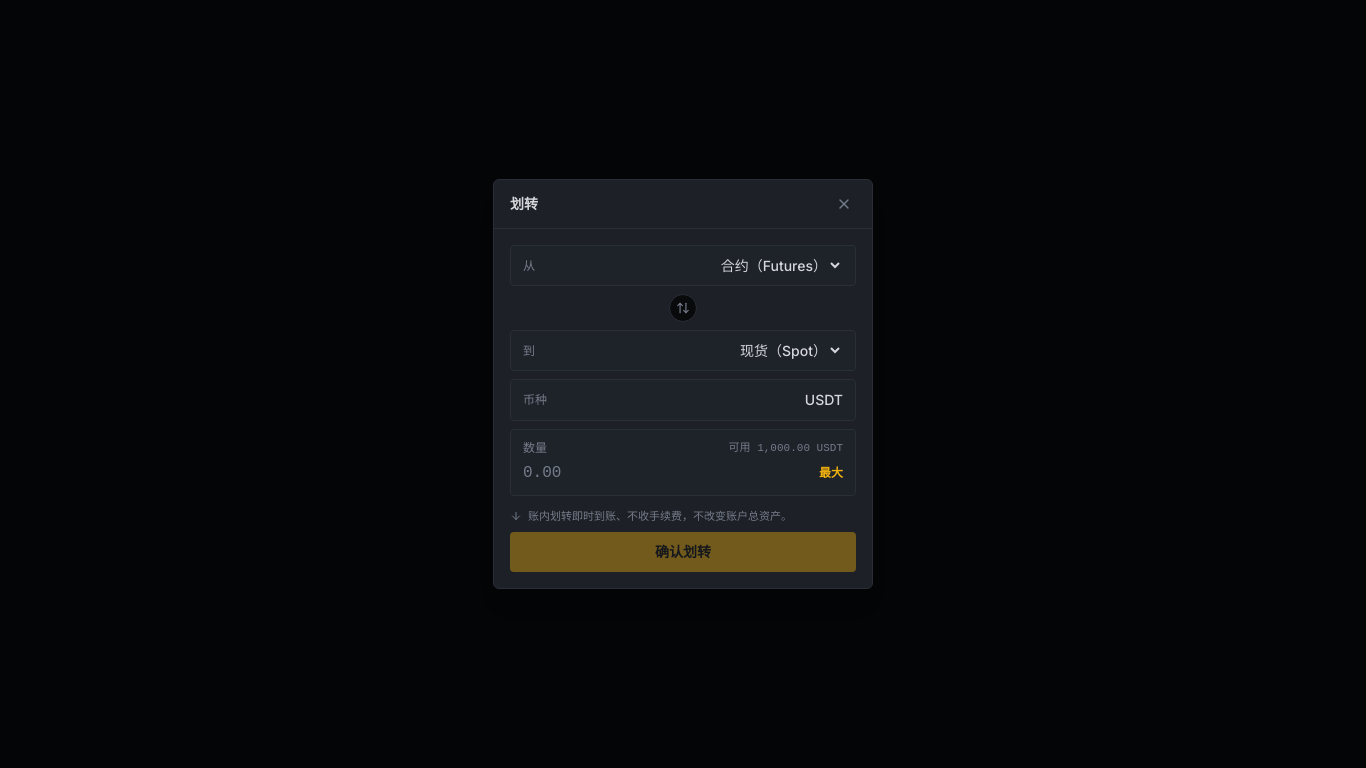
it: TransferDialog › 交换方向后可用额随之切换
Click the button with test id "transfer-swap". click: (683,308)
box: left=669, top=294, right=697, bottom=322
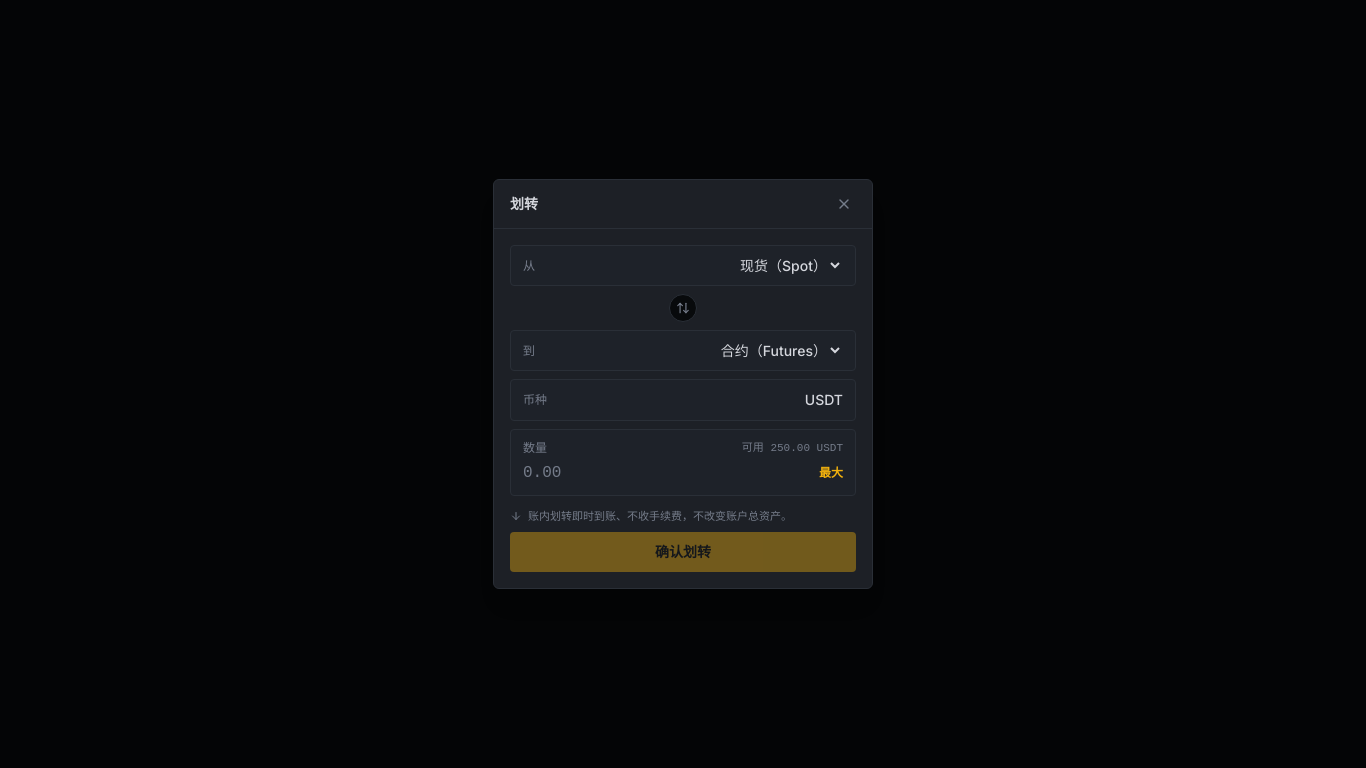
Expected: the dropdown with test id "transfer-from" shows "现货（Spot）", left=547, top=256, right=843, bottom=275
Expected: the dropdown with test id "transfer-to" shows "合约（Futures）", left=547, top=341, right=843, bottom=360
Expected: the text with test id "transfer-available" reads "250.00", left=770, top=442, right=810, bottom=454
